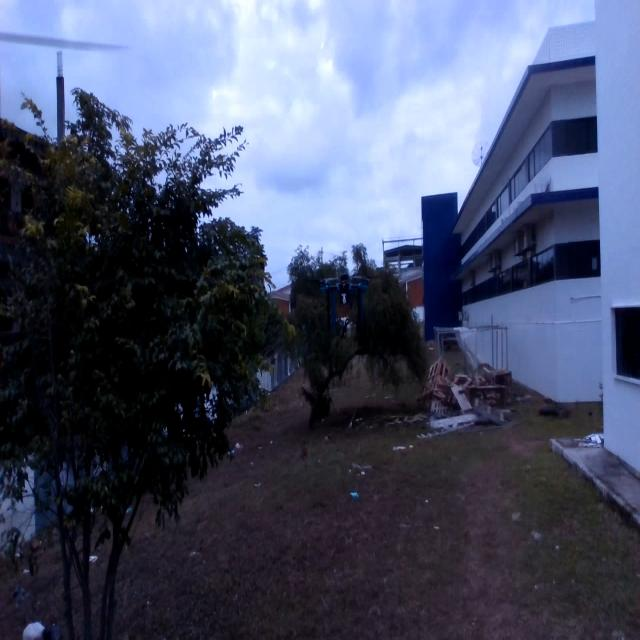-uav-: (320, 270, 370, 334)
